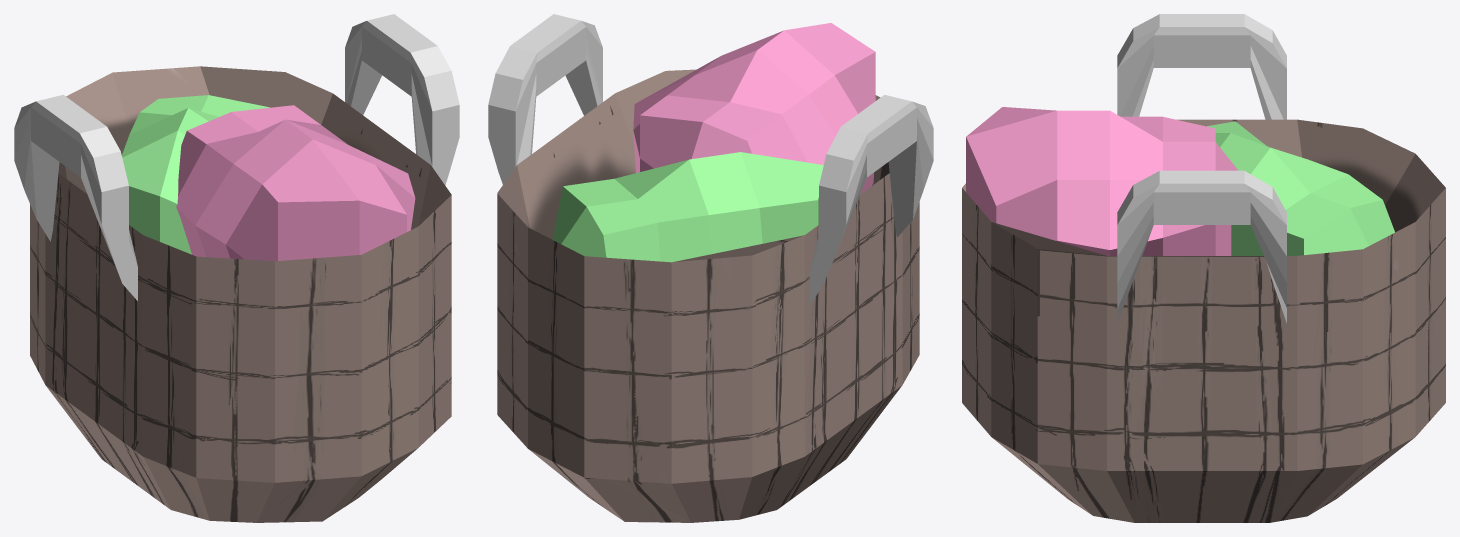
File: kosz na pranie.fbx
3 views of the same model, side by side, from view 1: azimuth 30°, elevation 25°; view 2: azimuth 150°, elevation 25°; view 3: azimuth 270°, elevation 25° (orthographic). The views are drawn at different scales.
Visible parts, largest first — view 1: Cube, Cube.004, Cube.001, Cube.003; view 2: Cube, Cube.004, Cube.003, Cube.001; view 3: Cube, Cube.004, Cube.001, Cube.003.
Boxes of the visible parts, x1=… form: Cube: x1=30, y1=66, x2=451, y2=522; Cube.004: x1=176, y1=105, x2=415, y2=261; Cube.001: x1=14, y1=14, x2=459, y2=300; Cube.003: x1=122, y1=95, x2=269, y2=254; Cube: x1=497, y1=69, x2=919, y2=522; Cube.004: x1=633, y1=23, x2=875, y2=193; Cube.003: x1=552, y1=152, x2=823, y2=262; Cube.001: x1=488, y1=14, x2=933, y2=305; Cube: x1=962, y1=119, x2=1445, y2=522; Cube.004: x1=966, y1=107, x2=1238, y2=255; Cube.001: x1=1117, y1=14, x2=1286, y2=323; Cube.003: x1=1207, y1=121, x2=1394, y2=255.
Bounding box in the file's own units: 399 × 407 × 476.
